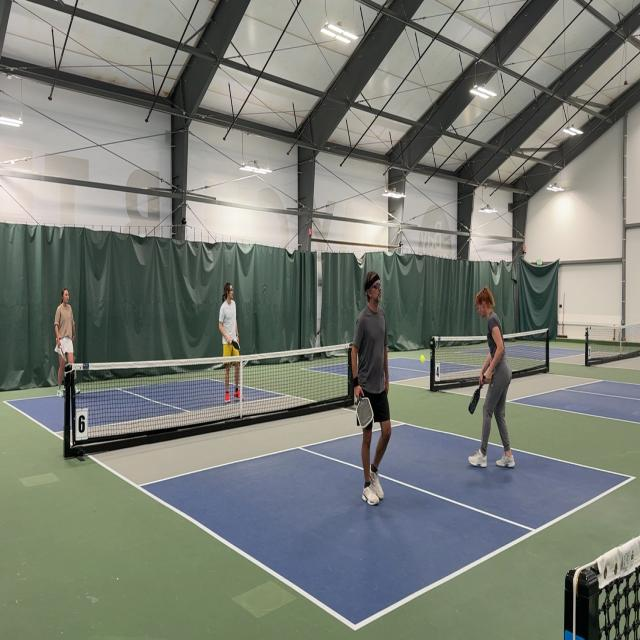ball: (419, 354, 426, 365)
